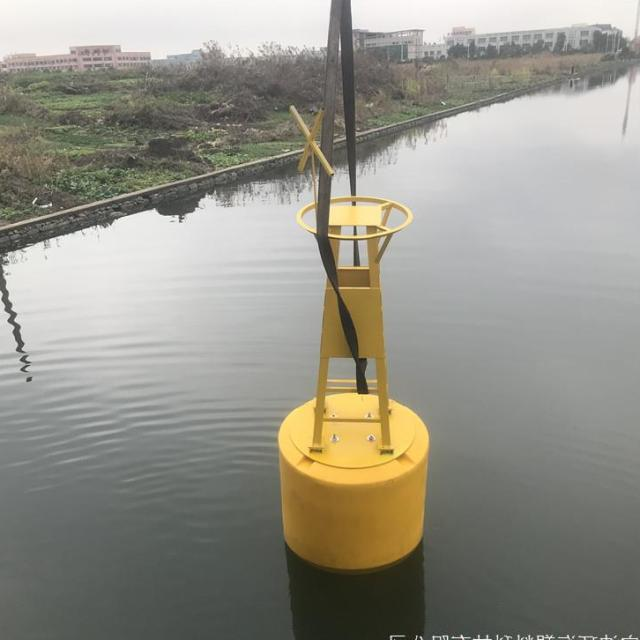buoy: (270, 98, 428, 577)
